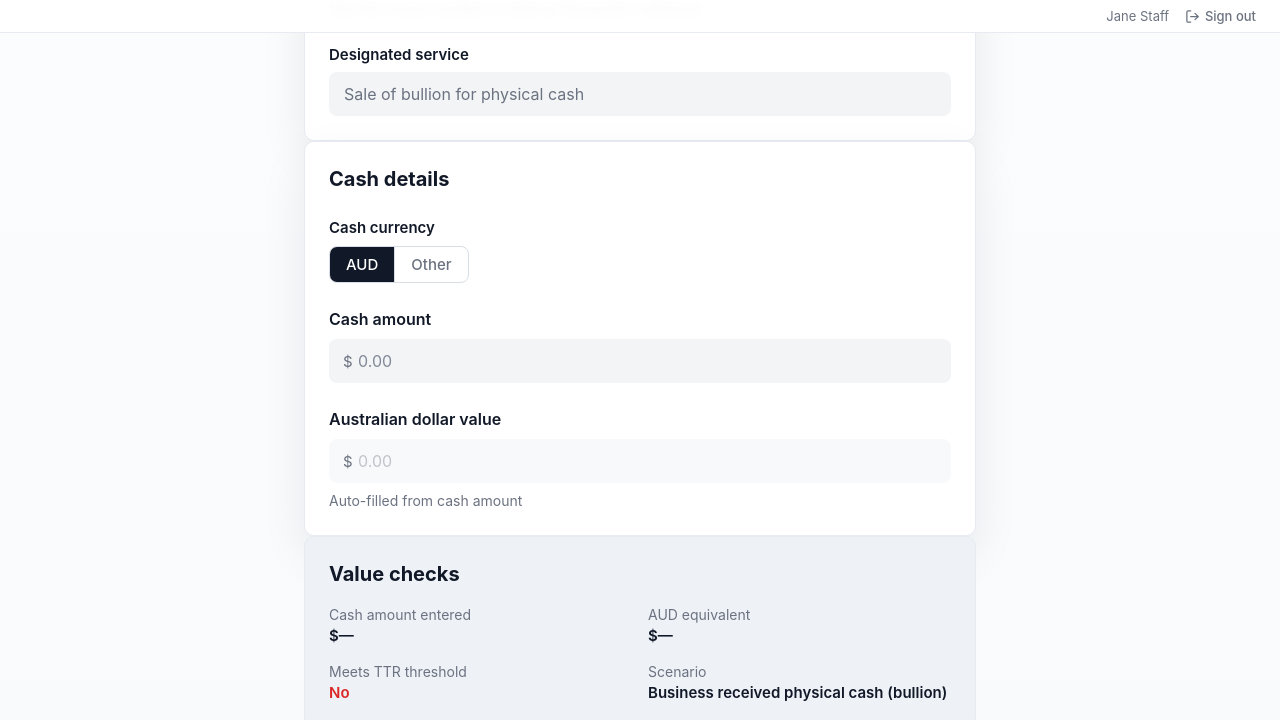
TransactionDetailsPage › shows validation errors when transactionRef or dateTime are empty
(page scrolled)
In the number field labelled "Cash amount": (640, 361) [329,339,951,383], type "15000"
(page scrolled)
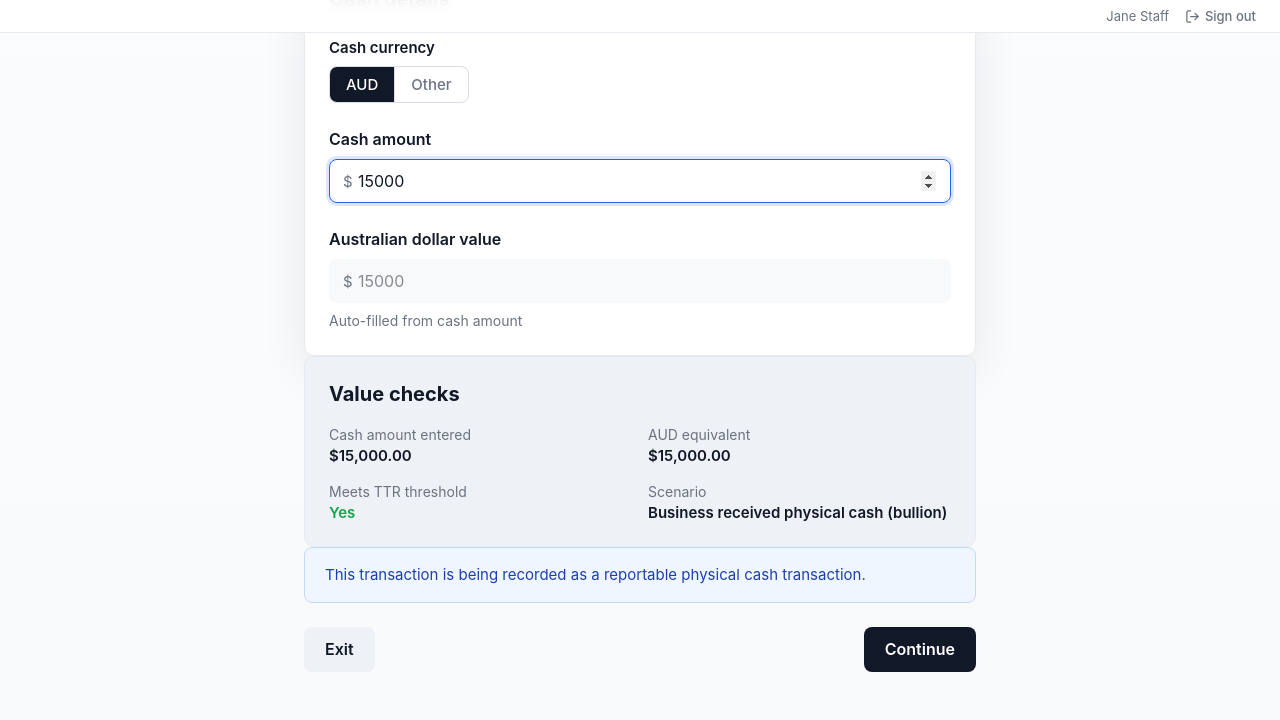
Click the button "Continue": (920, 650) [864,627,976,672]
(page scrolled)
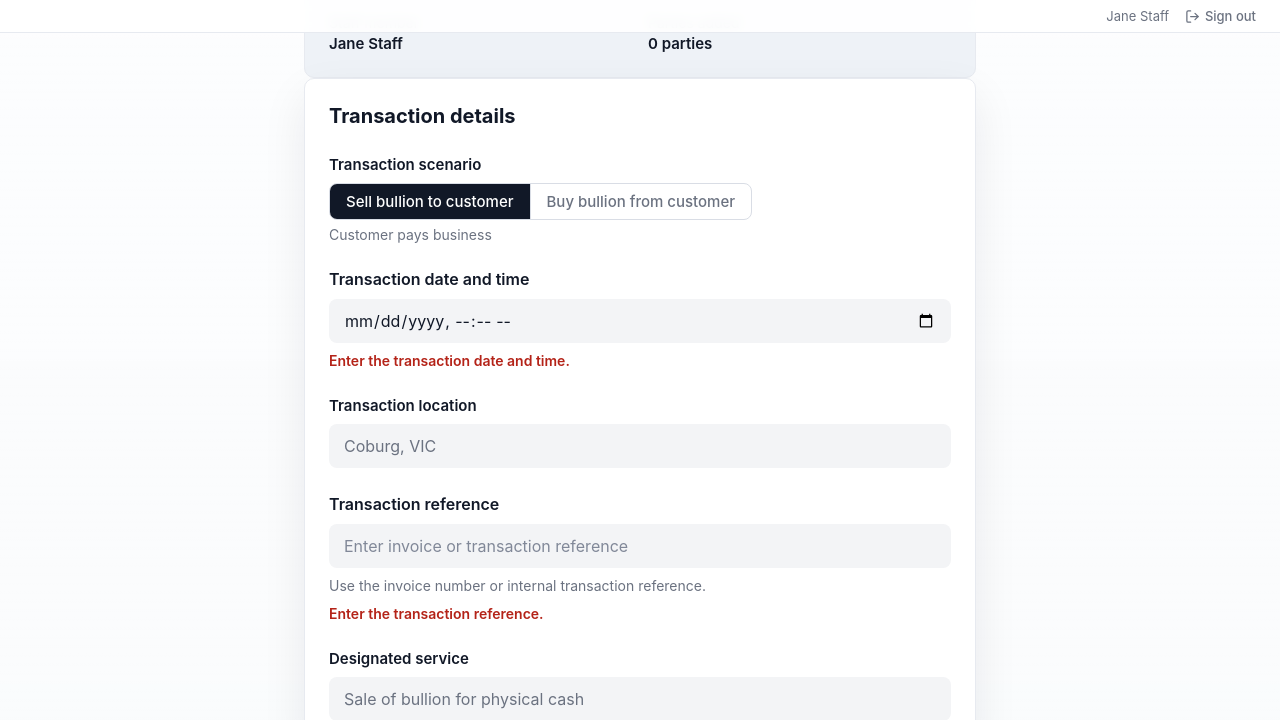
Result: the text "Enter the transaction reference." is shown at [329,605,544,622]
Result: the text "Enter the transaction date and time." is shown at [329,352,570,369]
